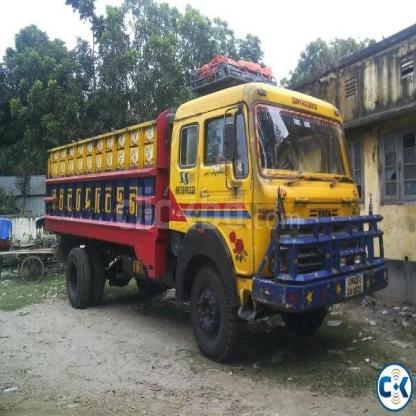truck: (46, 83, 382, 353)
